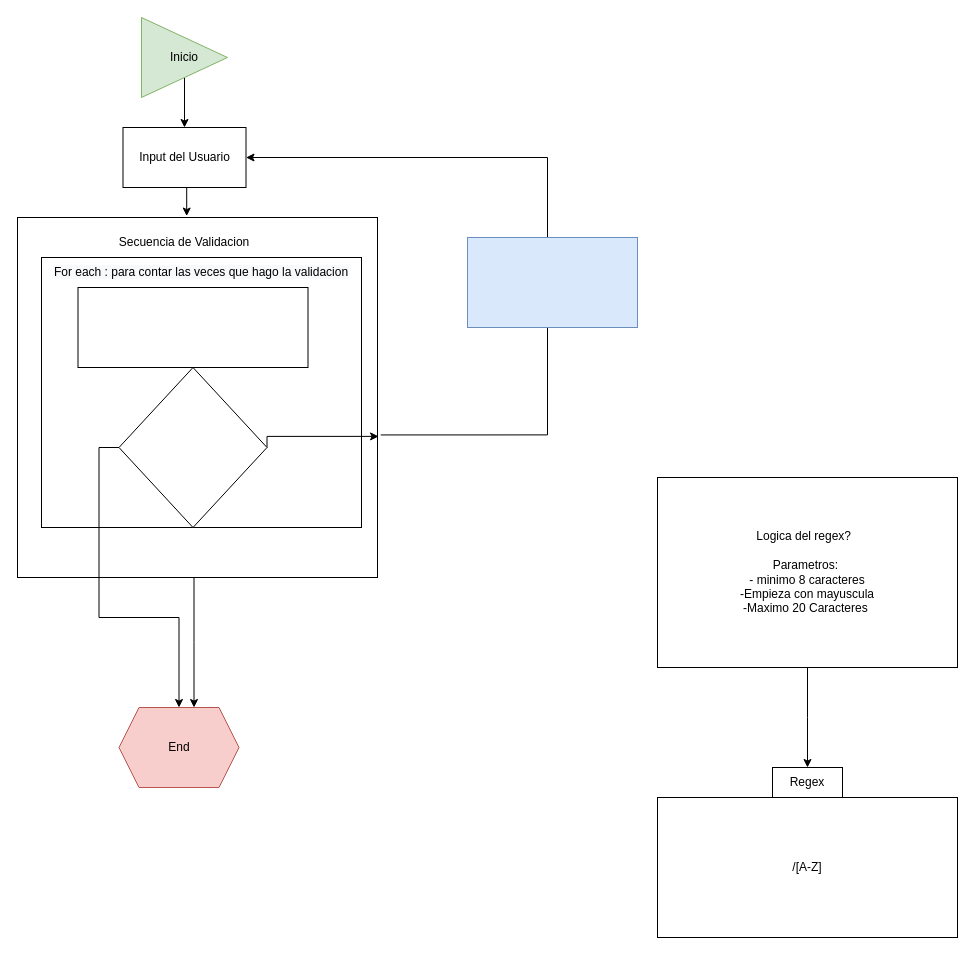
Some shapes in this 975 by 955 pixel diagram are drawn without their labels. Here are the shapes that lost their labels. From the top down, the centre of each, then its label:
At [552,282]: "Retry, para volverle a pedir texto HASTA 3 VECES".
At [192,327]: "VALIDACION".
At [192,447]: "Si el count de validacion es >3 entonces".
